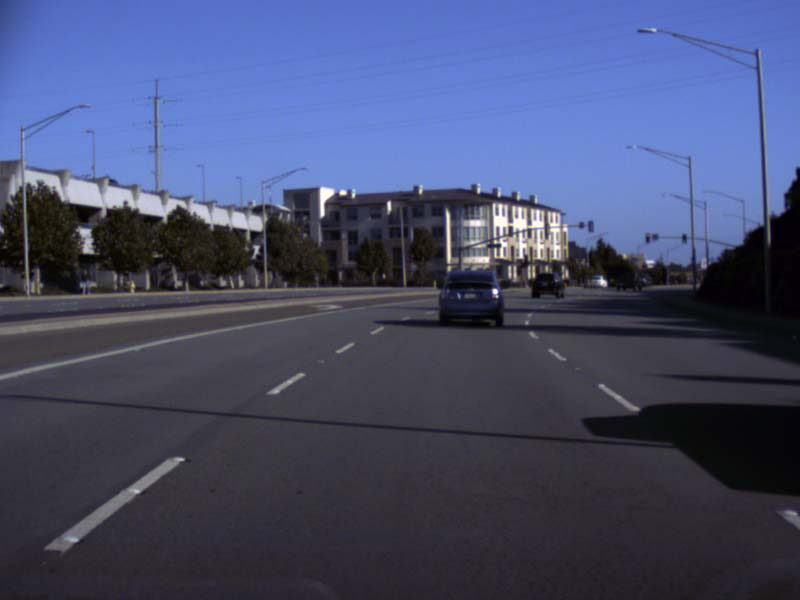Green: (681, 233, 686, 243)
Red: (644, 232, 649, 243)
